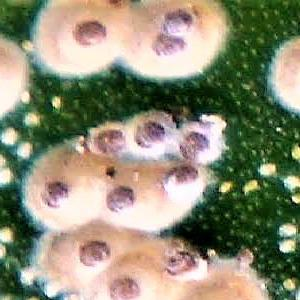Femea: (49, 9, 124, 70), (30, 162, 89, 232), (97, 167, 166, 226), (129, 34, 198, 88), (33, 257, 112, 300), (156, 160, 211, 221), (79, 256, 153, 299), (141, 0, 216, 38), (174, 123, 223, 158), (150, 246, 206, 275), (127, 117, 171, 152), (86, 127, 129, 157)
Linfa: (15, 265, 41, 290), (46, 92, 66, 118), (0, 123, 19, 149), (17, 136, 33, 164), (274, 238, 297, 257), (0, 161, 14, 192), (238, 177, 260, 196), (0, 224, 16, 250), (15, 85, 34, 105), (17, 37, 37, 55), (281, 172, 299, 192), (215, 179, 236, 196), (275, 220, 296, 237), (21, 112, 40, 129), (260, 160, 278, 177)
